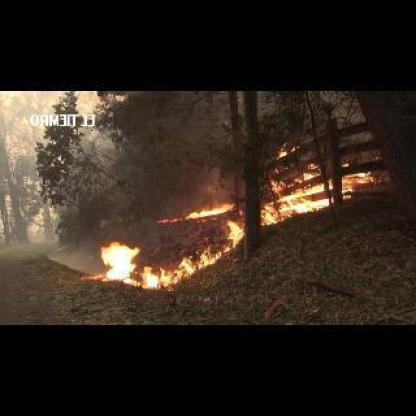fire: (96, 221, 247, 289), (260, 161, 333, 225), (344, 170, 375, 198), (186, 203, 233, 218), (276, 140, 287, 158), (156, 216, 179, 223)
